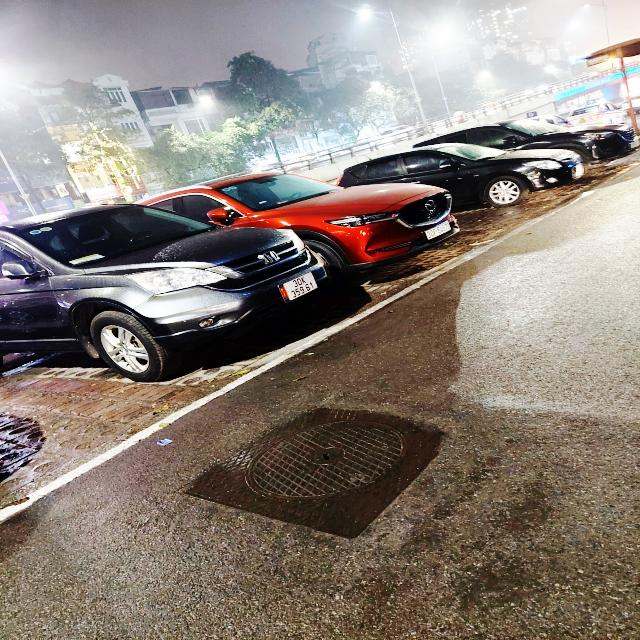license_plate: (280, 273, 322, 305), (425, 219, 454, 242)
